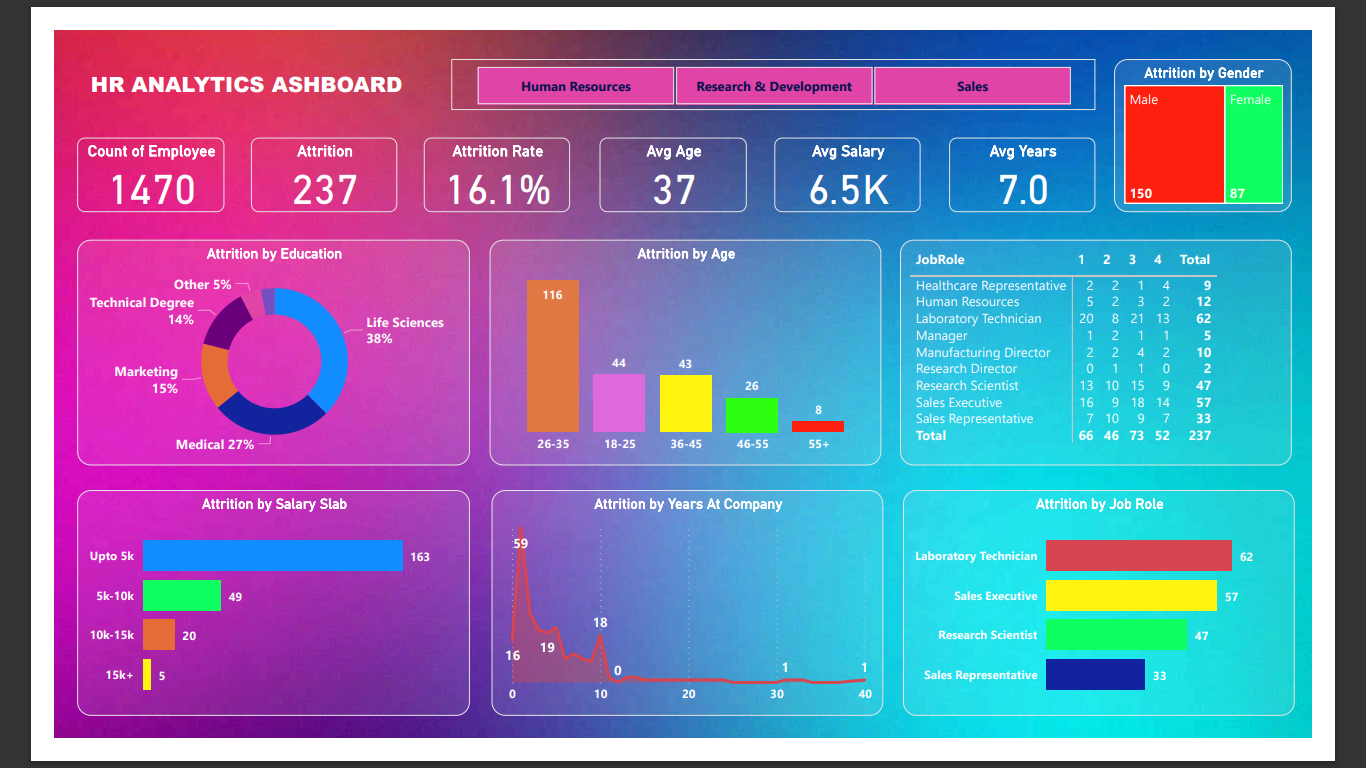

The page's visual inventory and layout, read from the dashboard file:
{"tool":"powerbi","page":{"name":"Page 1","canvas":[1280,720],"ordinal":0},"visuals":[{"type":"card","title":"Attrition","fields":{"Values":["Sum(HR_Analytics.AttritionCount)"]},"box":[199.6,109,149.3,75.5],"z":0},{"type":"card","title":"Count of Employee","fields":{"Values":["CountNonNull(HR_Analytics.EmpID)"]},"box":[23.5,109,149.3,75.5],"z":1000},{"type":"card","title":"Attrition Rate","fields":{"Values":["HR_Analytics.AttritionRate"]},"box":[375.8,109,149.3,75.5],"z":2000},{"type":"card","title":"Avg Age","fields":{"Values":["Avg(HR_Analytics.Age)"]},"box":[555.3,109,149.3,75.5],"z":3000},{"type":"card","title":"Avg Salary","fields":{"Values":["Avg(HR_Analytics.MonthlyIncome)"]},"box":[733.1,109,149.3,75.5],"z":4000},{"type":"card","title":"Avg Years","fields":{"Values":["Avg(HR_Analytics.YearsAtCompany)"]},"box":[910.9,109,149.3,75.5],"z":5000},{"type":"donutChart","title":"Attrition by Education","fields":{"Category":["HR_Analytics.EducationField"],"Y":["Sum(HR_Analytics.AttritionCount)"]},"box":[23.5,213.1,399.3,229.8],"z":6000},{"type":"columnChart","title":"Attrition by Age","fields":{"Category":["HR_Analytics.AgeGroup"],"Y":["Sum(HR_Analytics.AttritionCount)"]},"box":[442.9,213.1,399.3,229.8],"z":7000},{"type":"pivotTable","fields":{"Rows":["HR_Analytics.JobRole"],"Columns":["HR_Analytics.JobSatisfaction"],"Values":["Sum(HR_Analytics.AttritionCount)"]},"box":[860.6,213.1,399.3,229.8],"z":8000},{"type":"barChart","title":"Attrition by Salary Slab","fields":{"Category":["HR_Analytics.SalarySlab"],"Y":["Sum(HR_Analytics.AttritionCount)"]},"box":[23.5,468,399.3,229.8],"z":9000},{"type":"barChart","title":"Attrition by Job Role","fields":{"Category":["HR_Analytics.JobRole"],"Y":["Sum(HR_Analytics.AttritionCount)"]},"box":[864,468,399.3,229.8],"z":10000},{"type":"areaChart","title":"Attrition by Years At Company","fields":{"Category":["HR_Analytics.YearsAtCompany"],"Y":["Sum(HR_Analytics.AttritionCount)"]},"box":[444.6,468,399.3,229.8],"z":11000},{"type":"treemap","title":"Attrition by Gender","fields":{"Group":["HR_Analytics.Gender"],"Values":["Sum(HR_Analytics.AttritionCount)"]},"box":[1078.7,28.5,181.2,156],"z":12000},{"type":"slicer","fields":{"Values":["HR_Analytics.Department"]},"box":[404.3,28.5,655.9,52],"z":13000},{"type":"textbox","box":[31.9,35.2,354,45.3],"z":14000}]}

Visuals, with their boxes in screenshot pixels (x1, y1, x2, y2), scaled from the page's 1280x720 canvas onto the 1366x768 screenshot:
"Attrition" card: <region>213, 116, 372, 197</region>
"Count of Employee" card: <region>25, 116, 184, 197</region>
"Attrition Rate" card: <region>401, 116, 560, 197</region>
"Avg Age" card: <region>593, 116, 752, 197</region>
"Avg Salary" card: <region>782, 116, 942, 197</region>
"Avg Years" card: <region>972, 116, 1131, 197</region>
"Attrition by Education" donutChart: <region>25, 227, 451, 472</region>
"Attrition by Age" columnChart: <region>473, 227, 899, 472</region>
pivotTable - HR_Analytics.JobRole x HR_Analytics.JobSatisfaction: <region>918, 227, 1345, 472</region>
"Attrition by Salary Slab" barChart: <region>25, 499, 451, 744</region>
"Attrition by Job Role" barChart: <region>922, 499, 1348, 744</region>
"Attrition by Years At Company" areaChart: <region>474, 499, 901, 744</region>
"Attrition by Gender" treemap: <region>1151, 30, 1345, 197</region>
slicer - HR_Analytics.Department: <region>431, 30, 1131, 86</region>
textbox: <region>34, 38, 412, 86</region>
